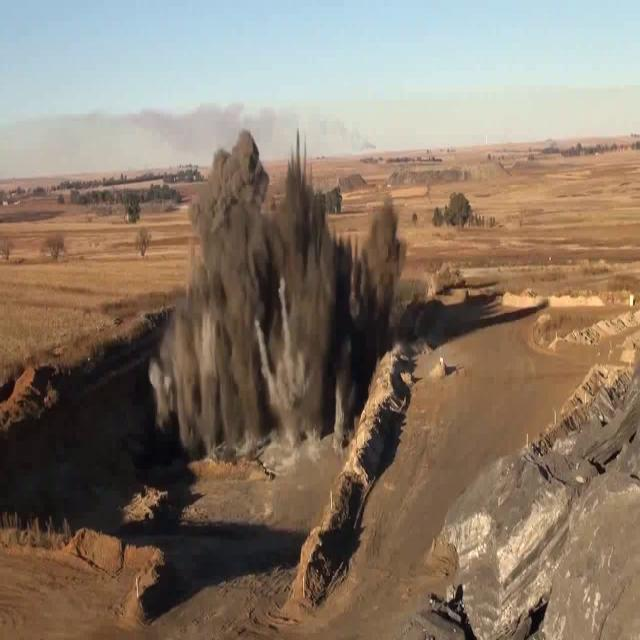explosion: (143, 119, 435, 499)
